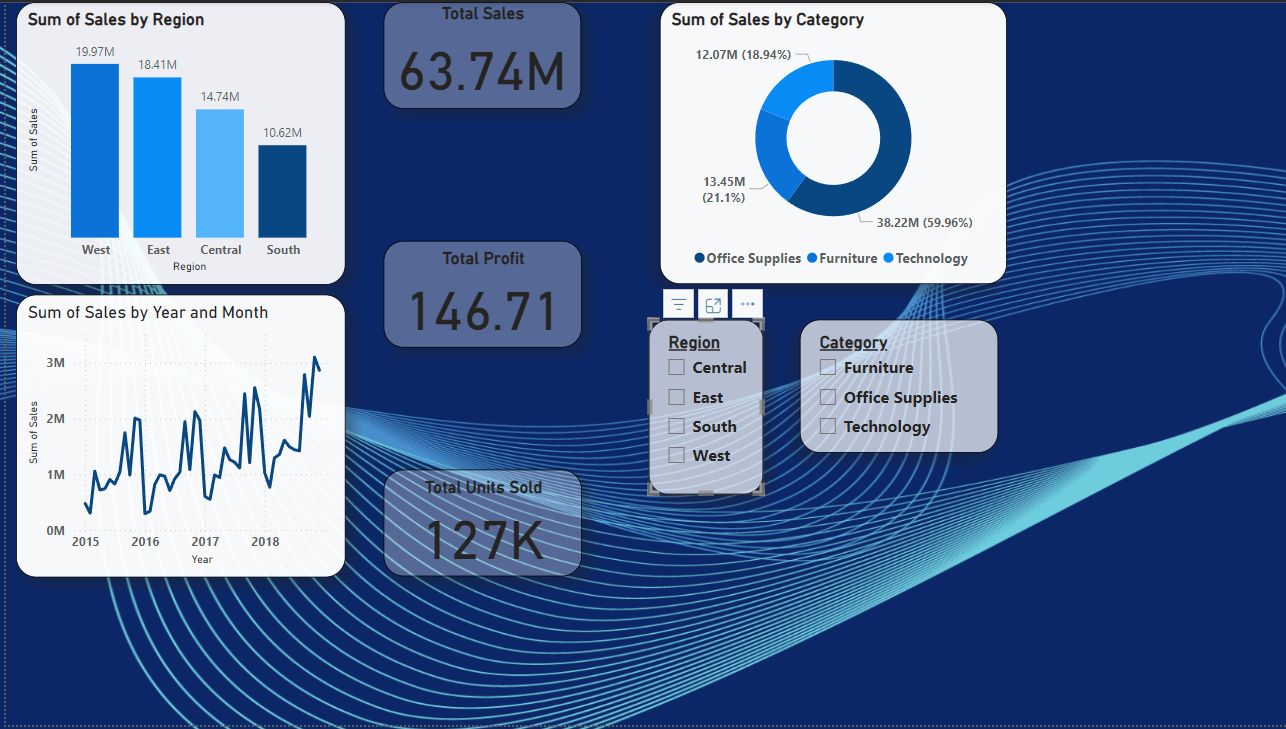

What the dashboard file says about the page in this screenshot:
{"tool":"powerbi","page":{"name":"Page 1","canvas":[1280,720],"ordinal":0},"visuals":[{"type":"columnChart","title":"Sum of Sales by Region","fields":{"Y":["Sum(sales data.Sales)"],"Category":["sales data.Region"],"Series":["sales data.Region"]},"box":[9.6,0,328,281.3],"z":0},{"type":"lineChart","fields":{"Y":["Sum(sales data.Sales)"],"Category":["sales data.Order Date.Variation.Date Hierarchy.Year","sales data.Order Date.Variation.Date Hierarchy.Month"]},"box":[9.6,290.9,328,281.3],"z":1000},{"type":"donutChart","fields":{"Category":["sales data.Category"],"Y":["Sum(sales data.Sales)"]},"box":[650,0,345.6,281.1],"z":2000},{"type":"card","title":"Total Sales","fields":{"Values":["Sum(sales data.Sales)"]},"box":[375.6,0,196.7,106.7],"z":3000},{"type":"card","title":"Total Profit","fields":{"Values":["Sum(sales data.Profit)"]},"box":[375.6,237.8,197.8,106.7],"z":4000},{"type":"card","title":"Total Units Sold","fields":{"Values":["Sum(sales data.Quantity)"]},"box":[375.6,465.6,197.8,106.7],"z":5000},{"type":"slicer","fields":{"Values":["sales data.Region"]},"box":[640,315.6,114.4,174.4],"z":6000},{"type":"slicer","fields":{"Values":["sales data.Category"]},"box":[789.9,316,197.8,133.1],"z":7000}]}

Visuals, with their boxes in screenshot pixels (x1, y1, x2, y2), scaled from the page's 1280x720 canvas onto the 1286x729 screenshot:
"Sum of Sales by Region" columnChart: locate(10, 0, 339, 285)
lineChart - Sum(sales data.Sales) x sales data.Order Date.Variation.Date Hierarchy.Year: locate(10, 295, 339, 579)
donutChart - sales data.Category x Sum(sales data.Sales): locate(653, 0, 1000, 285)
"Total Sales" card: locate(377, 0, 575, 108)
"Total Profit" card: locate(377, 241, 576, 349)
"Total Units Sold" card: locate(377, 471, 576, 579)
slicer - sales data.Region: locate(643, 320, 758, 496)
slicer - sales data.Category: locate(794, 320, 992, 455)
